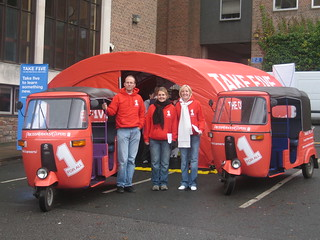threewheel: (16, 87, 119, 211), (208, 87, 320, 196)
